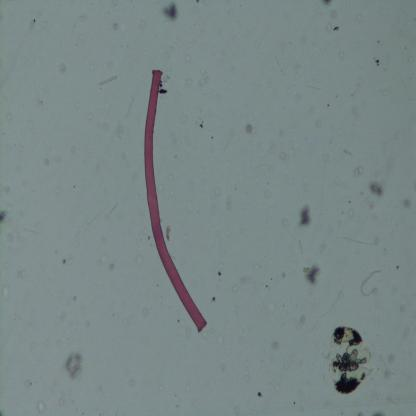Background material: (319, 326, 373, 396), (64, 349, 86, 380), (204, 326, 229, 350), (379, 354, 398, 379), (340, 234, 378, 246), (161, 0, 179, 24), (303, 264, 323, 285), (325, 8, 340, 33), (298, 204, 312, 227), (350, 77, 364, 99), (0, 281, 14, 303), (369, 179, 384, 199), (159, 74, 170, 96), (198, 66, 208, 86), (0, 207, 10, 227), (126, 97, 134, 121), (246, 122, 257, 136), (36, 401, 47, 414), (279, 152, 290, 164), (306, 83, 322, 91), (125, 378, 136, 389), (165, 223, 171, 243), (401, 198, 411, 209), (354, 166, 364, 177), (298, 238, 304, 256), (321, 0, 336, 7), (372, 55, 380, 68), (271, 340, 280, 350), (298, 313, 306, 324), (25, 376, 31, 390), (372, 410, 385, 416), (315, 119, 323, 128), (59, 64, 66, 74), (112, 22, 119, 32), (344, 148, 352, 156), (399, 304, 406, 312), (356, 409, 364, 416), (338, 52, 346, 59), (108, 263, 116, 270), (257, 391, 264, 398), (217, 268, 222, 277), (211, 296, 216, 304), (200, 120, 204, 129), (358, 190, 364, 196), (282, 272, 286, 280), (396, 265, 400, 270), (196, 0, 199, 3)
Glass filter fibre: (320, 287, 344, 318), (361, 270, 382, 296), (99, 75, 117, 86), (110, 202, 119, 213)
Microfibre: (143, 68, 206, 333)
